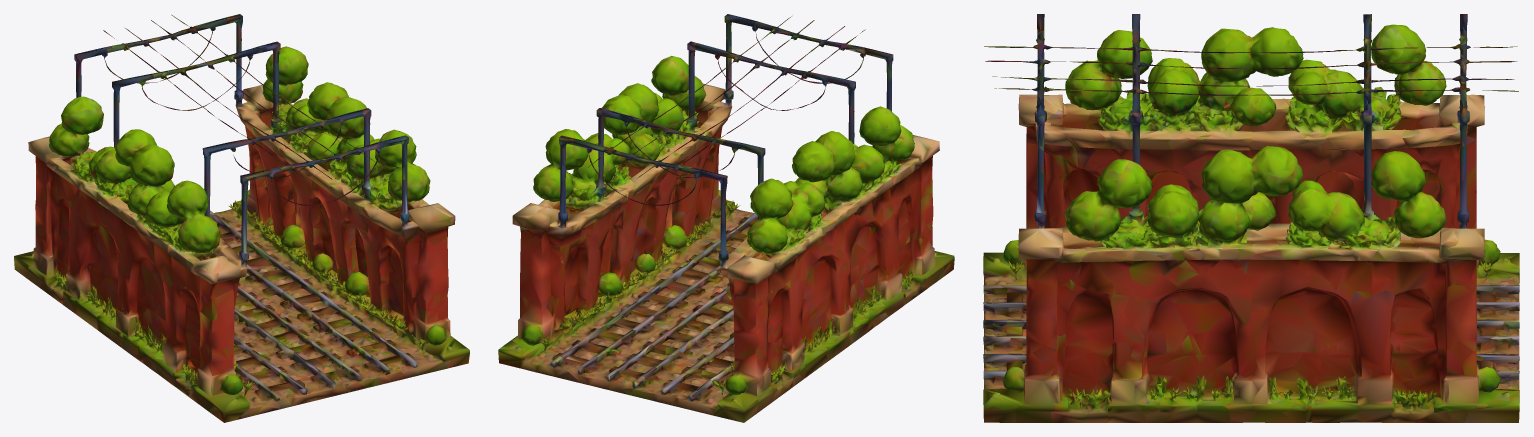
The model's file is Road.mobile.glb.
The picture shows the model from 3 angles, left to right: view 1: azimuth 30°, elevation 25°; view 2: azimuth 150°, elevation 25°; view 3: azimuth 270°, elevation 25°; orthographic projection. The views are drawn at different scales.
Visible parts, largest first — view 1: Road_Tile_013; view 2: Road_Tile_013; view 3: Road_Tile_013.
Boxes of the visible parts, x1,y1,x2,y2 form: Road_Tile_013: (14, 14, 469, 422); Road_Tile_013: (498, 14, 954, 422); Road_Tile_013: (983, 14, 1519, 422).
Bounding box in the file's own units: 1.31 × 1.1 × 1.9.
